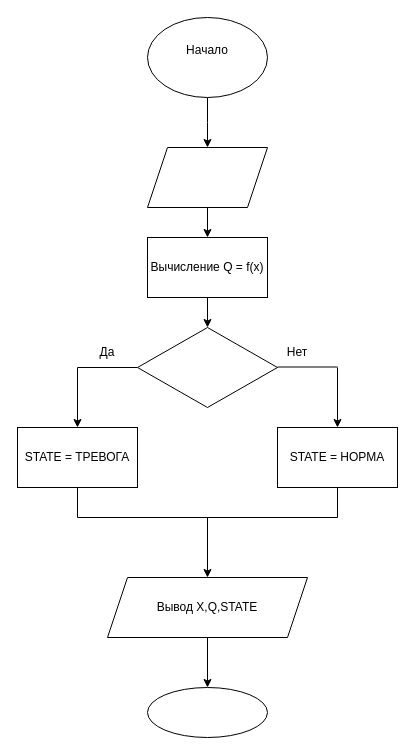
This 415x755 diagram has some shape labels left out. The shapes that lost their labels are listed below. From the top down, each one's box as (x1, y1, x2, y2) in pixels, then its label:
(146, 146, 268, 208): Ввод X
(136, 326, 278, 408): |Q - 50| > 7 ?
(146, 686, 268, 738): КОНЕЦ
